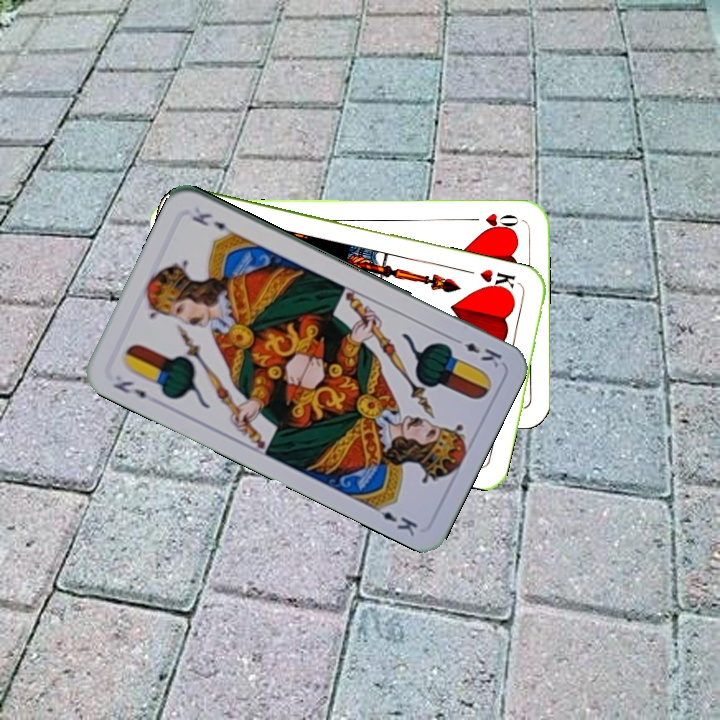EK: (448, 333, 505, 370), (109, 376, 149, 401)
HK: (475, 265, 518, 297)
HO: (465, 209, 522, 234)
